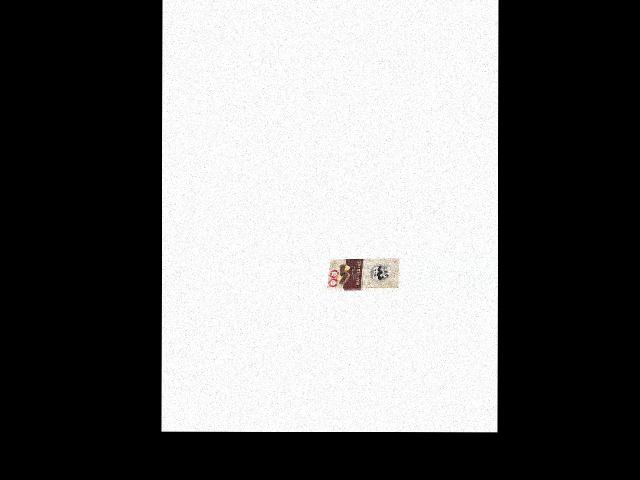chocolate: (325, 257, 399, 296)
